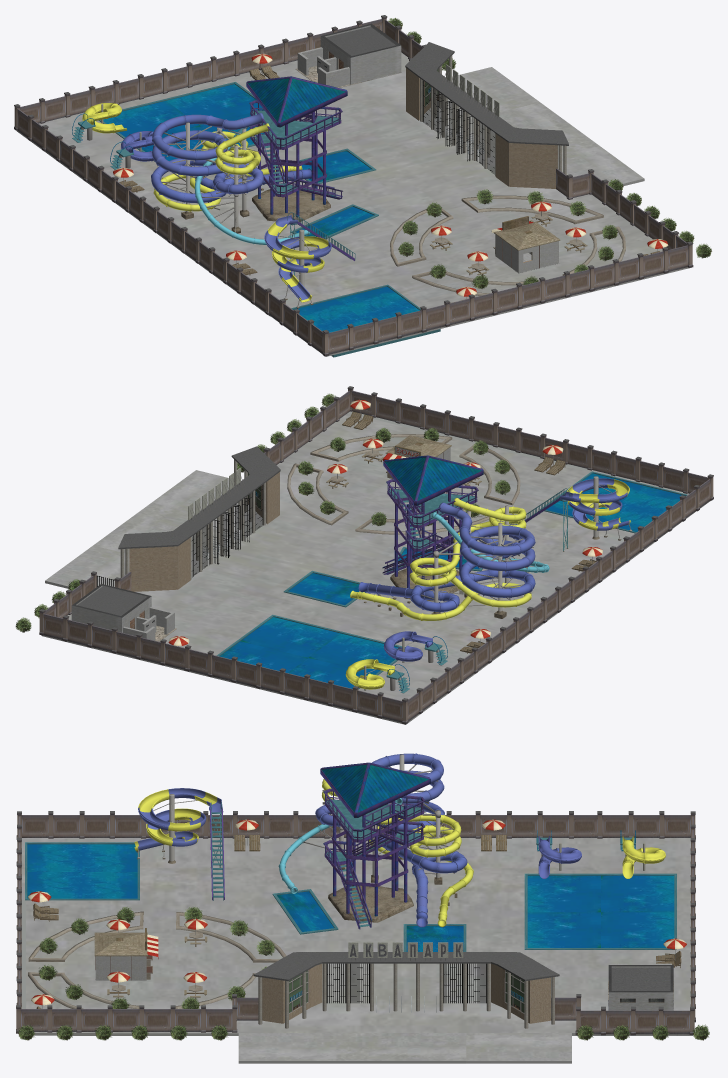
File: aquaPark.glb
The picture shows the model from 3 angles, top to bottom: view 1: azimuth 30°, elevation 25°; view 2: azimuth 150°, elevation 25°; view 3: azimuth 270°, elevation 25°; orthographic projection. The views are drawn at different scales.
Visible parts, largest first — view 1: aquaPark; view 2: aquaPark; view 3: aquaPark.
Boxes of the visible parts, x1,y1,x2,y2 form: aquaPark: [14, 15, 711, 357]; aquaPark: [15, 386, 713, 724]; aquaPark: [16, 753, 709, 1063].
Size of the model in its own units: 55.94 by 17.42 by 73.68.
Materials: 10 (10 with a texture image).
